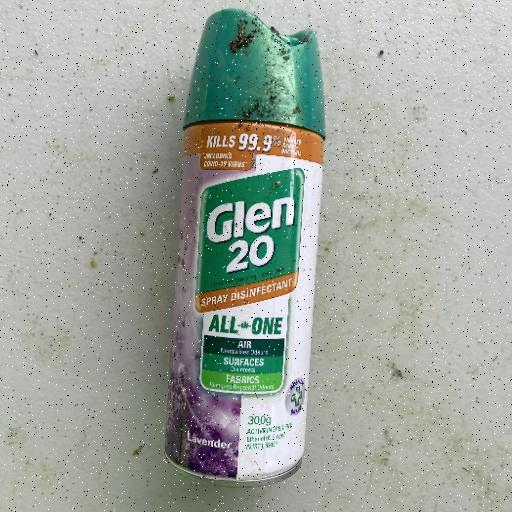Metal: (162, 6, 328, 486)
